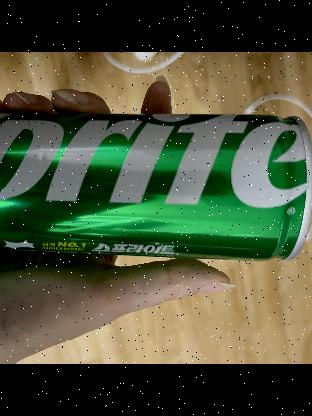Can: (0, 110, 312, 264)
